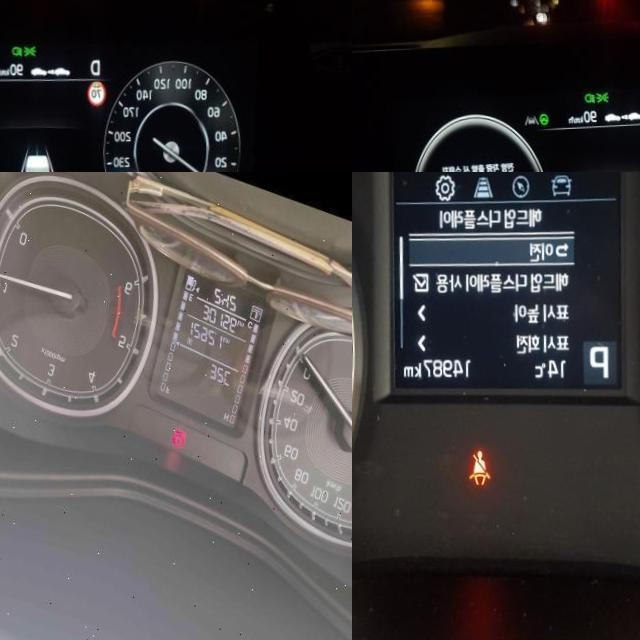Low beam: (10, 47, 22, 59), (583, 94, 594, 106)
SideLamp: (594, 92, 608, 106), (21, 46, 36, 59)
